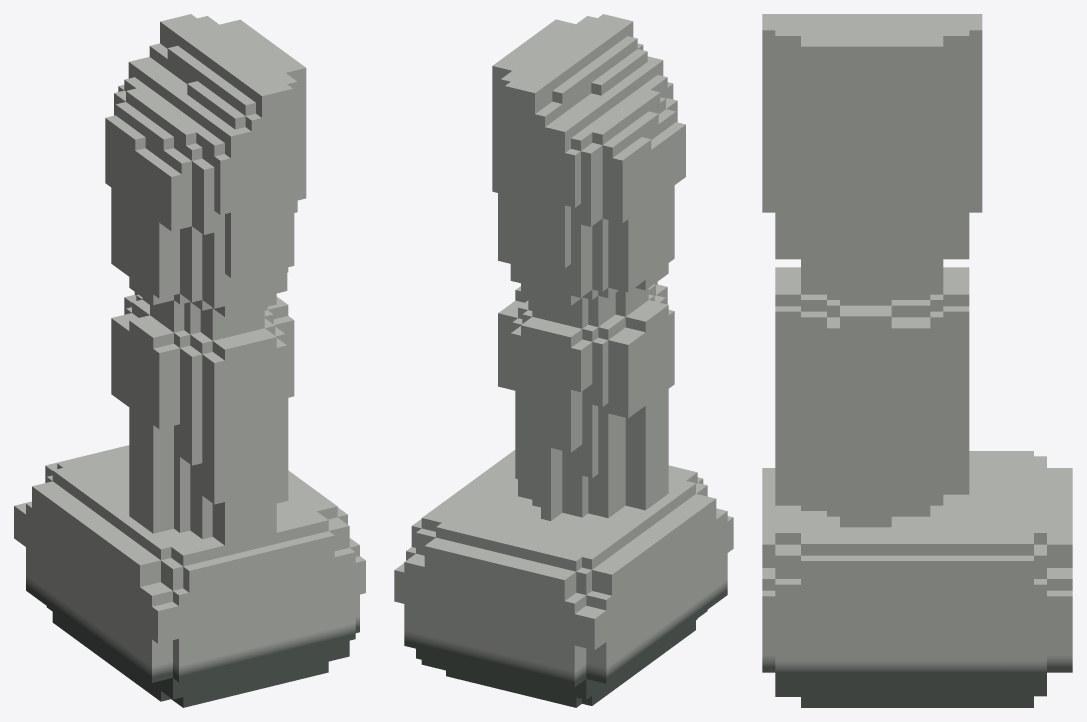
The model's file is Enemy-1-PolarLeft.fbx.
3 views of the same model, side by side, from view 1: azimuth 30°, elevation 25°; view 2: azimuth 150°, elevation 25°; view 3: azimuth 270°, elevation 25° (orthographic). The views are drawn at different scales.
Visible parts, largest first — view 1: PolarLeft; view 2: PolarLeft; view 3: PolarLeft.
Part boxes in pixels (x1,y1,x2,y2): PolarLeft: (14, 14, 365, 707); PolarLeft: (394, 14, 733, 707); PolarLeft: (762, 14, 1072, 707).
Size of the model in its own units: 20 by 55 by 24.
1 material, 1 textured.
